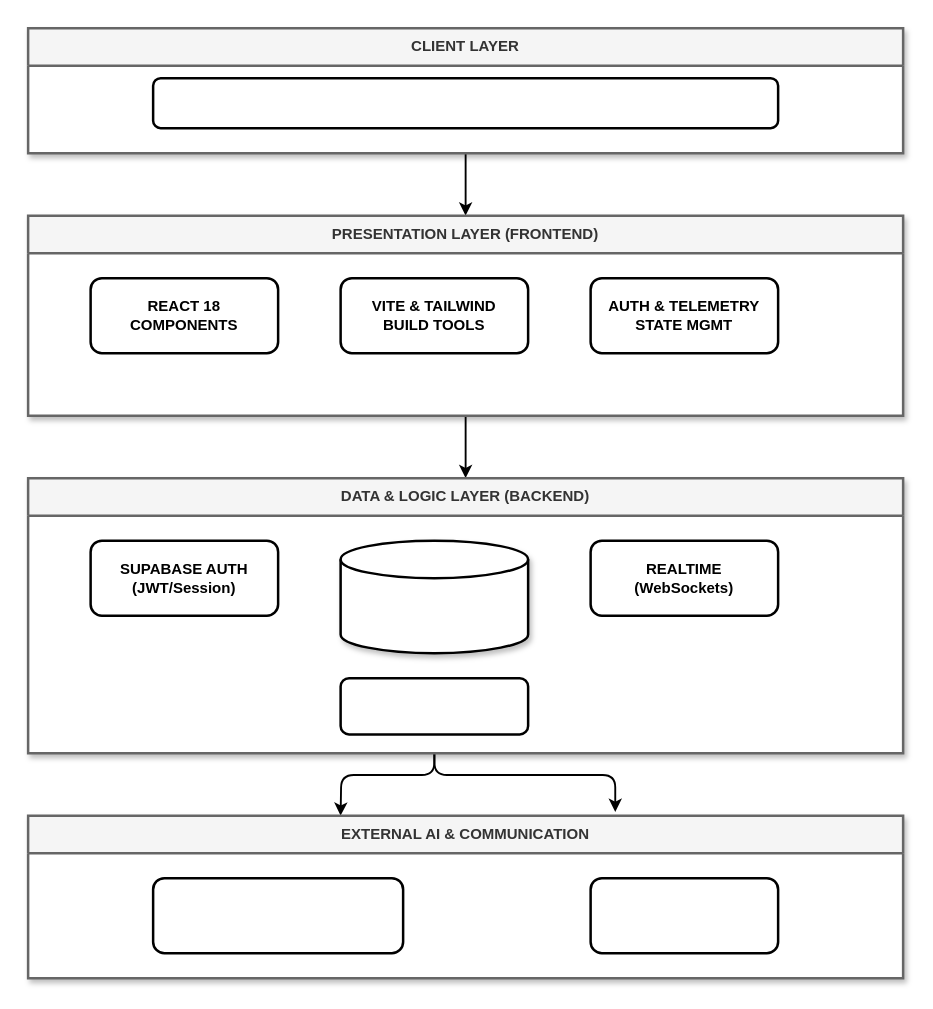
The diagram is 933 pixels wide and 1009 high, and some of its shapes have lost their labels. Here are the shapes that lost their labels. From the top down, the centre of each, then its label:
At (465,102): "WEB BROWSER (DESKTOP / MOBILE) React Application Interface".
At (435,598): "SUPABASE DB (POSTGRESQL)".
At (434,705): "EDGE FUNCTIONS (Deno Runtime)".
At (277,915): "AI SERVICES (COHERE)".
At (684,915): "RESEND API (EMAIL)".
